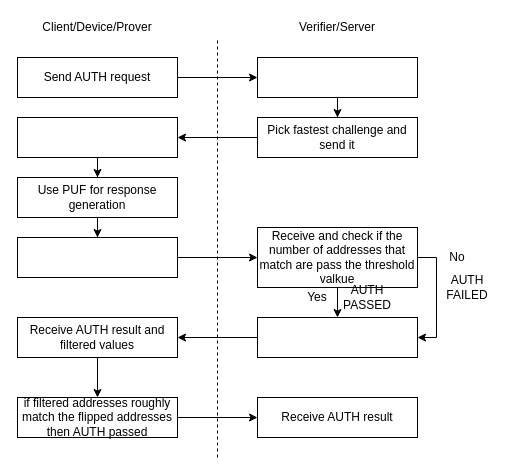
The diagram is 505 pixels wide and 476 high, and some of its shapes have lost their labels. Each missing label, with the centre of its shape:
Filter out the flipped addresses and send it with AUTH result: [337,337]
Mix addresses of flipped bits with same number of random addresses: [97,257]
Receive AUTH request: [337,77]
Receive Challenge: [97,137]
